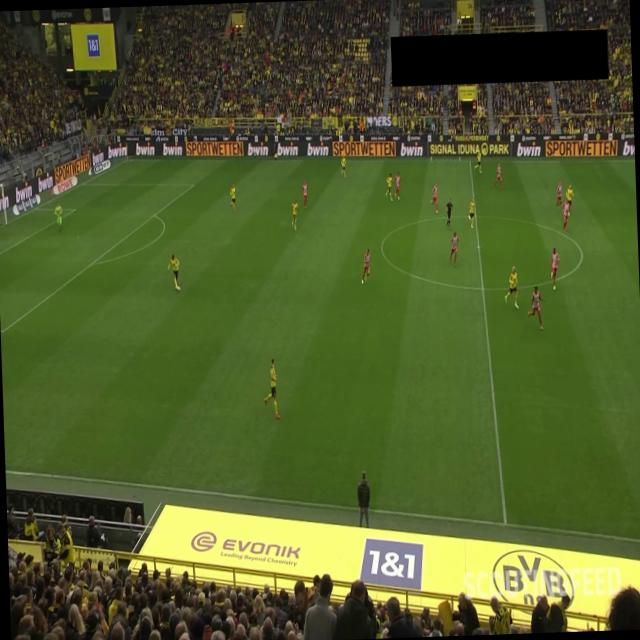ball: (177, 286, 181, 292)
goalkeeper: (53, 200, 63, 232)
player: (262, 356, 281, 419), (526, 285, 546, 331), (504, 266, 520, 310), (167, 253, 180, 290), (359, 248, 372, 284), (448, 231, 460, 267), (550, 247, 560, 290), (562, 198, 572, 232), (290, 198, 300, 231), (429, 182, 439, 214), (466, 198, 476, 228), (384, 171, 394, 201), (492, 162, 502, 188), (565, 182, 574, 210), (228, 182, 236, 212), (394, 170, 401, 200), (301, 180, 308, 208), (474, 150, 482, 173), (340, 154, 347, 178), (556, 181, 562, 207)
referee: (444, 197, 454, 229), (273, 136, 279, 160)
